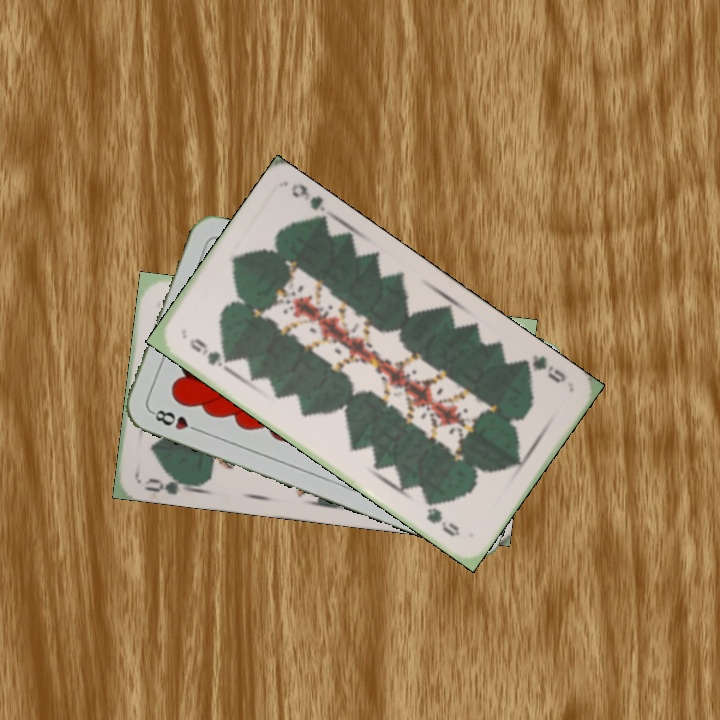G9: (185, 334, 233, 373), (517, 351, 569, 386)
GO: (140, 468, 198, 497)
H8: (147, 405, 204, 435)
